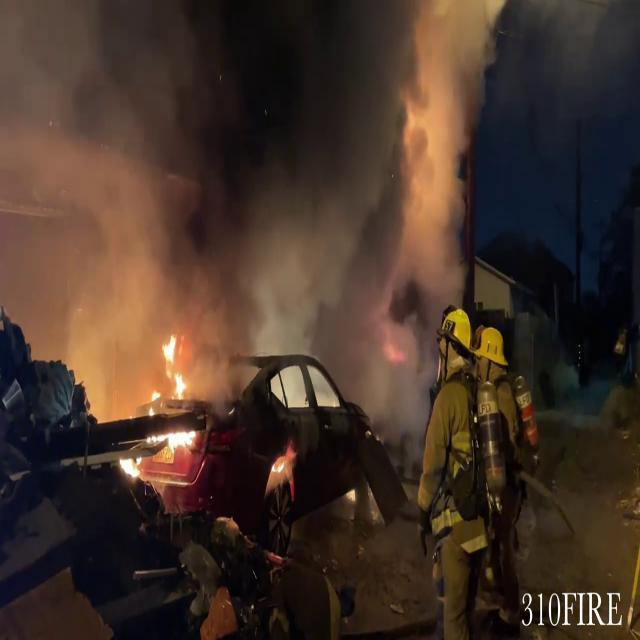Fire: (154, 332, 192, 408)
Smoke: (1, 0, 506, 392)
